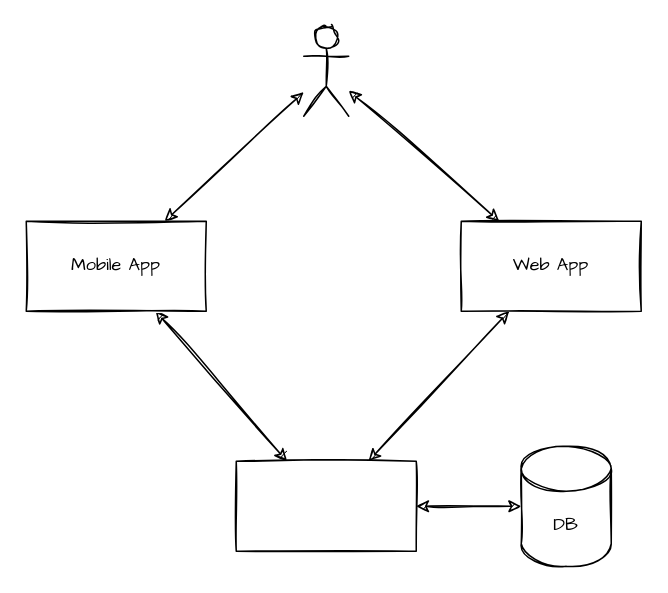
Some shapes in this 668 by 593 pixel diagram are drawn without their labels. The box of each missing label's shape, as (x1, y1, x2, y2) in pixels:
Backend API: (235, 460, 416, 551)
User: (302, 25, 349, 116)
